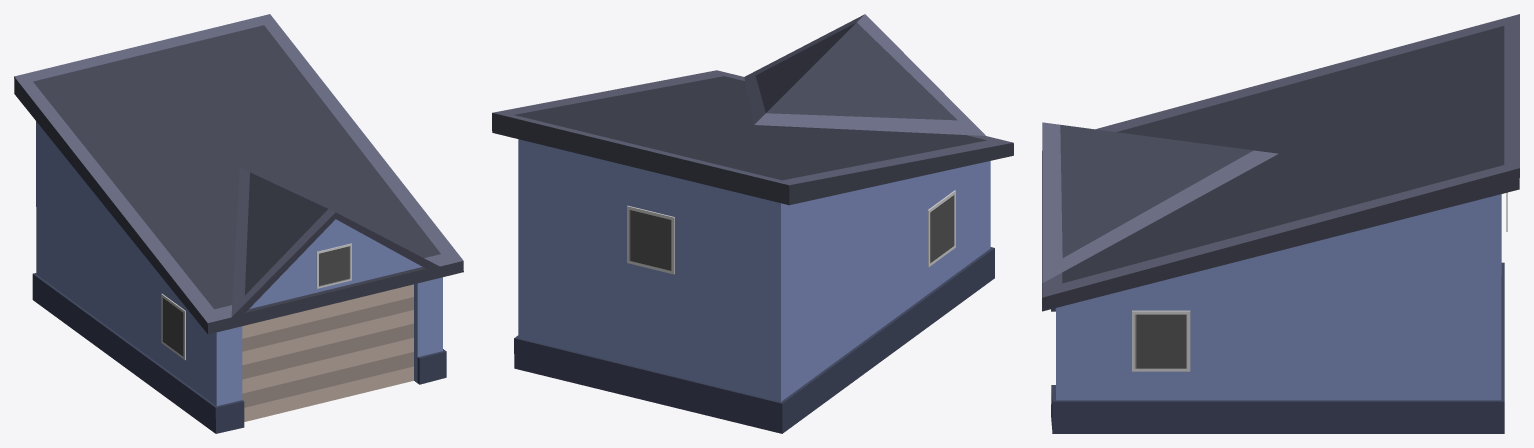
File: garage02_color01.fbx
3 renders of one model, left to right at view 1: azimuth 30°, elevation 25°; view 2: azimuth 150°, elevation 25°; view 3: azimuth 270°, elevation 25°, orthographic. The views are drawn at different scales.
Parts seen in each view (by area): view 1: garage02_color01; view 2: garage02_color01; view 3: garage02_color01.
Boxes of the visible parts, left/top/right/bottom form: garage02_color01: left=14, top=14, right=463, bottom=433; garage02_color01: left=492, top=14, right=1013, bottom=433; garage02_color01: left=1042, top=14, right=1519, bottom=433.
Bounding box in the file's own units: 847 × 701 × 1110.
